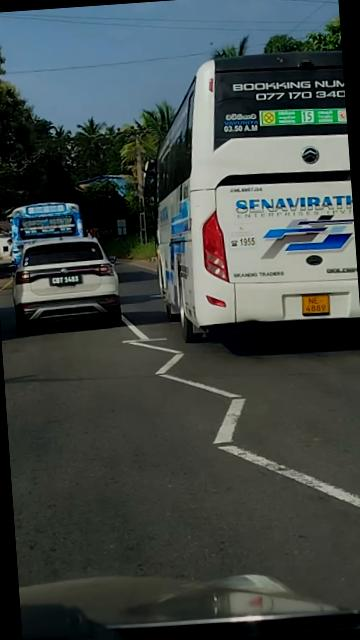illegal overtaking: (115, 19, 360, 350)
number plate: (293, 283, 336, 320)
